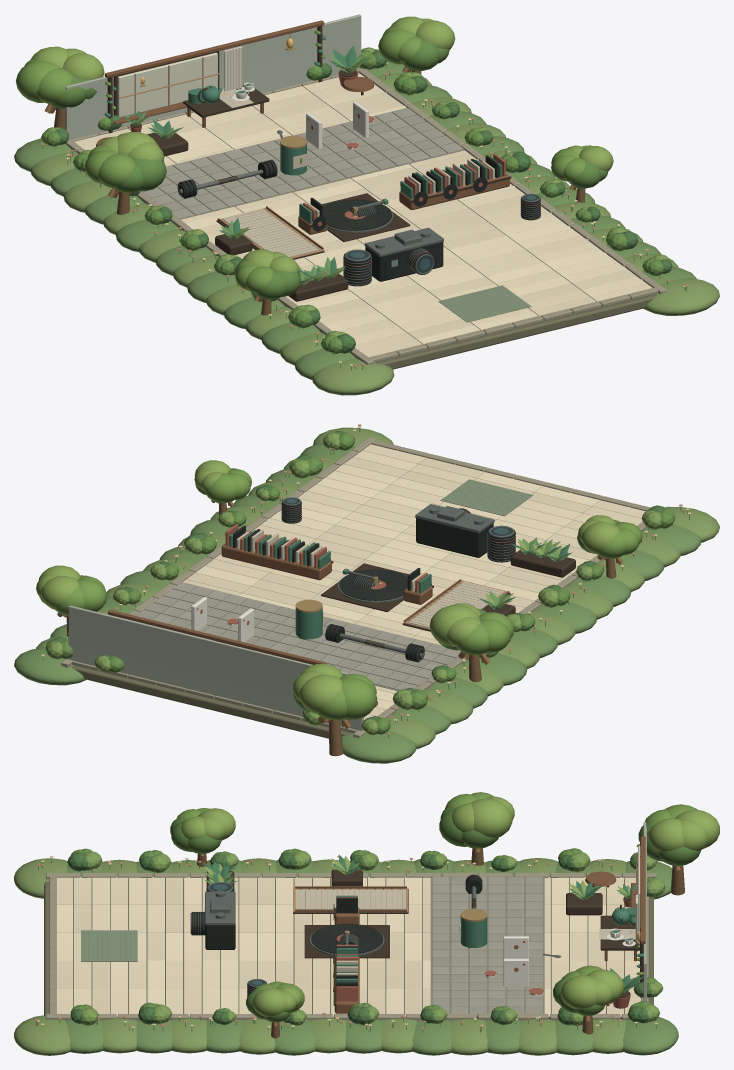
File: atelier.glb
3 renders of one model, top to bottom at view 1: azimuth 30°, elevation 25°; view 2: azimuth 150°, elevation 25°; view 3: azimuth 270°, elevation 25°, orthographic.
Parts seen in each view (by area): view 1: atelier, record; view 2: atelier, record; view 3: atelier, record.
Part boxes in pixels (x1=…): atelier: x1=14, y1=14, x2=719, y2=395; record: x1=323, y1=199, x2=391, y2=230; atelier: x1=14, y1=424, x2=719, y2=763; record: x1=339, y1=569, x2=407, y2=600; atelier: x1=14, y1=792, x2=719, y2=1055; record: x1=311, y1=923, x2=383, y2=953.
Bounding box in the file's own units: 25.87 × 5.38 × 38.43.
